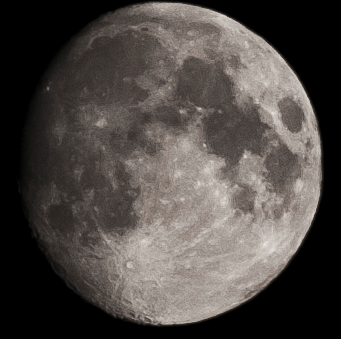crater: (86, 229, 200, 298)
